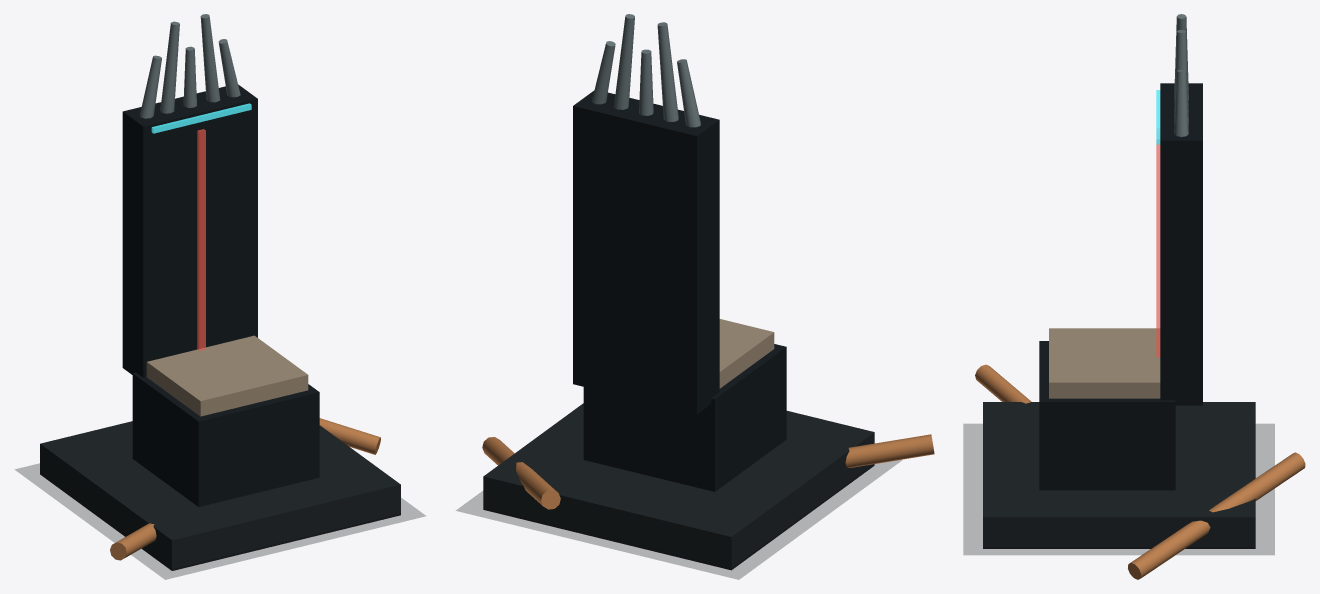
File: hp_room_cyber_uplink_throne.glb
3 views of the same model, side by side, from view 1: azimuth 30°, elevation 25°; view 2: azimuth 150°, elevation 25°; view 3: azimuth 270°, elevation 25° (orthographic). The views are drawn at different scales.
Visible parts, largest first — view 1: back_tower, dais, seat_block, seat_pad, contact_shadow, spine_red, crown_pin_1, crown_pin_3, root_cable_b, root_cable_a, crown_pin_0, crown_cyan (+2 smaller); view 2: back_tower, dais, seat_block, contact_shadow, seat_pad, root_cable_a, root_cable_b, crown_pin_1, crown_pin_3, crown_pin_0, crown_pin_2, crown_pin_4; view 3: dais, seat_block, back_tower, seat_pad, contact_shadow, root_cable_b, spine_red, root_cable_a, crown_pin_4, crown_pin_3.
Part boxes in pixels (x1,y1,x2,y2): back_tower: (122, 84, 257, 377); dais: (40, 421, 400, 570); seat_block: (132, 372, 319, 506); seat_pad: (146, 335, 308, 416); contact_shadow: (15, 463, 425, 579); spine_red: (197, 129, 205, 350); crown_pin_1: (160, 21, 179, 113); crown_pin_3: (200, 14, 220, 102); root_cable_b: (319, 418, 380, 454); root_cable_a: (110, 523, 156, 560); crown_pin_0: (140, 55, 161, 118); crown_cyan: (151, 103, 251, 133); back_tower: (573, 90, 719, 414); dais: (483, 403, 874, 570); seat_block: (583, 344, 786, 491); contact_shadow: (456, 460, 901, 579); seat_pad: (719, 319, 774, 388); root_cable_a: (845, 434, 934, 467); root_cable_b: (482, 437, 560, 509); crown_pin_1: (657, 22, 678, 121); crown_pin_3: (614, 14, 634, 109); crown_pin_0: (677, 59, 700, 127); crown_pin_2: (639, 49, 653, 115); crown_pin_4: (591, 41, 615, 104); dais: (983, 402, 1255, 548); seat_block: (1039, 341, 1175, 490); back_tower: (1160, 83, 1202, 405); seat_pad: (1049, 328, 1160, 398); contact_shadow: (963, 424, 1274, 554); root_cable_b: (1128, 452, 1305, 579); spine_red: (1156, 144, 1160, 357); root_cable_a: (975, 364, 1031, 403); crown_pin_4: (1174, 69, 1188, 136); crown_pin_3: (1174, 30, 1188, 123).
Size of the model in its own units: 2.1 by 2.68 by 1.76.
